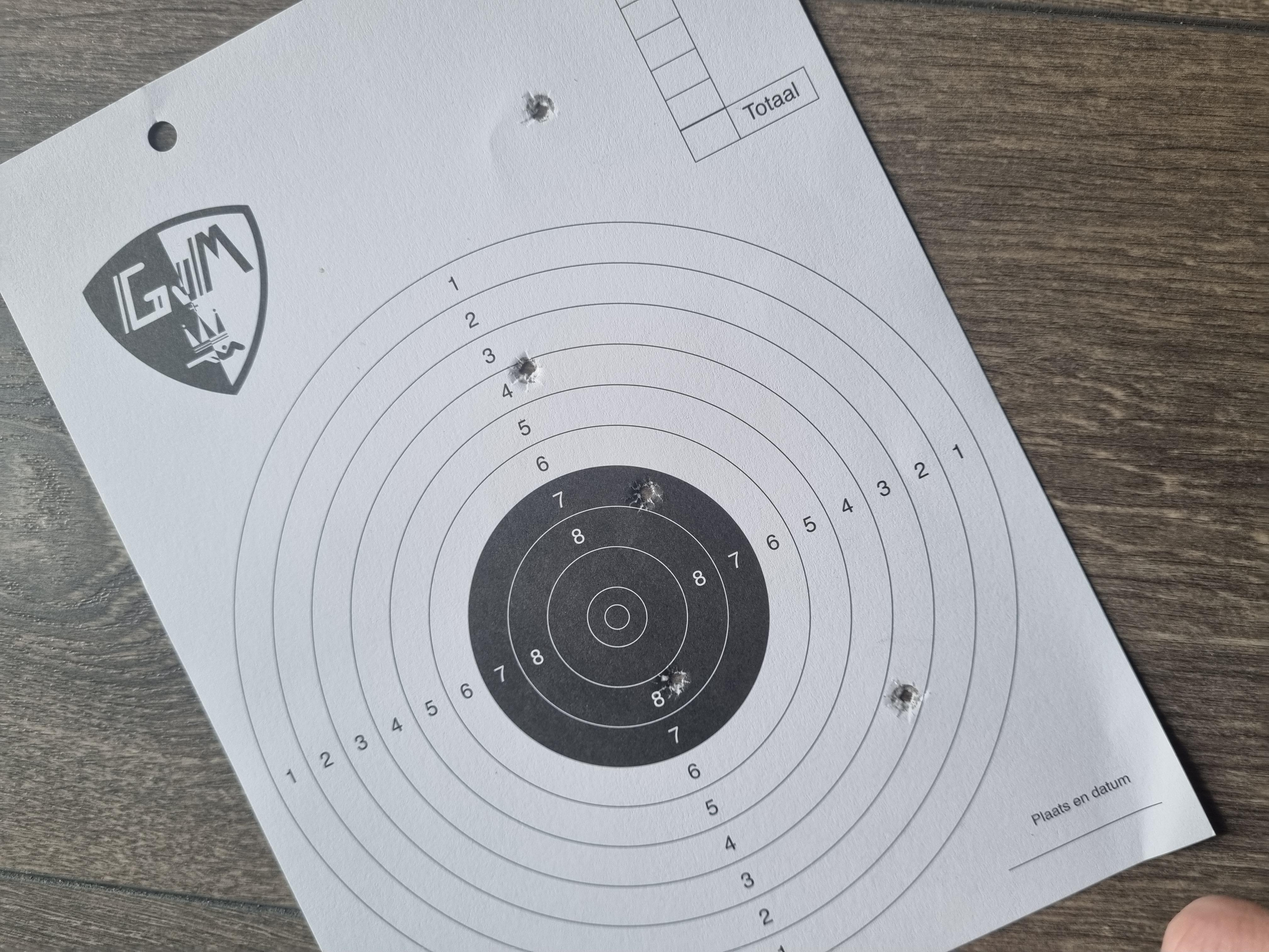hole: (311, 667, 362, 691), (338, 491, 381, 518), (585, 472, 629, 497), (1104, 391, 1147, 416), (756, 384, 802, 404)
